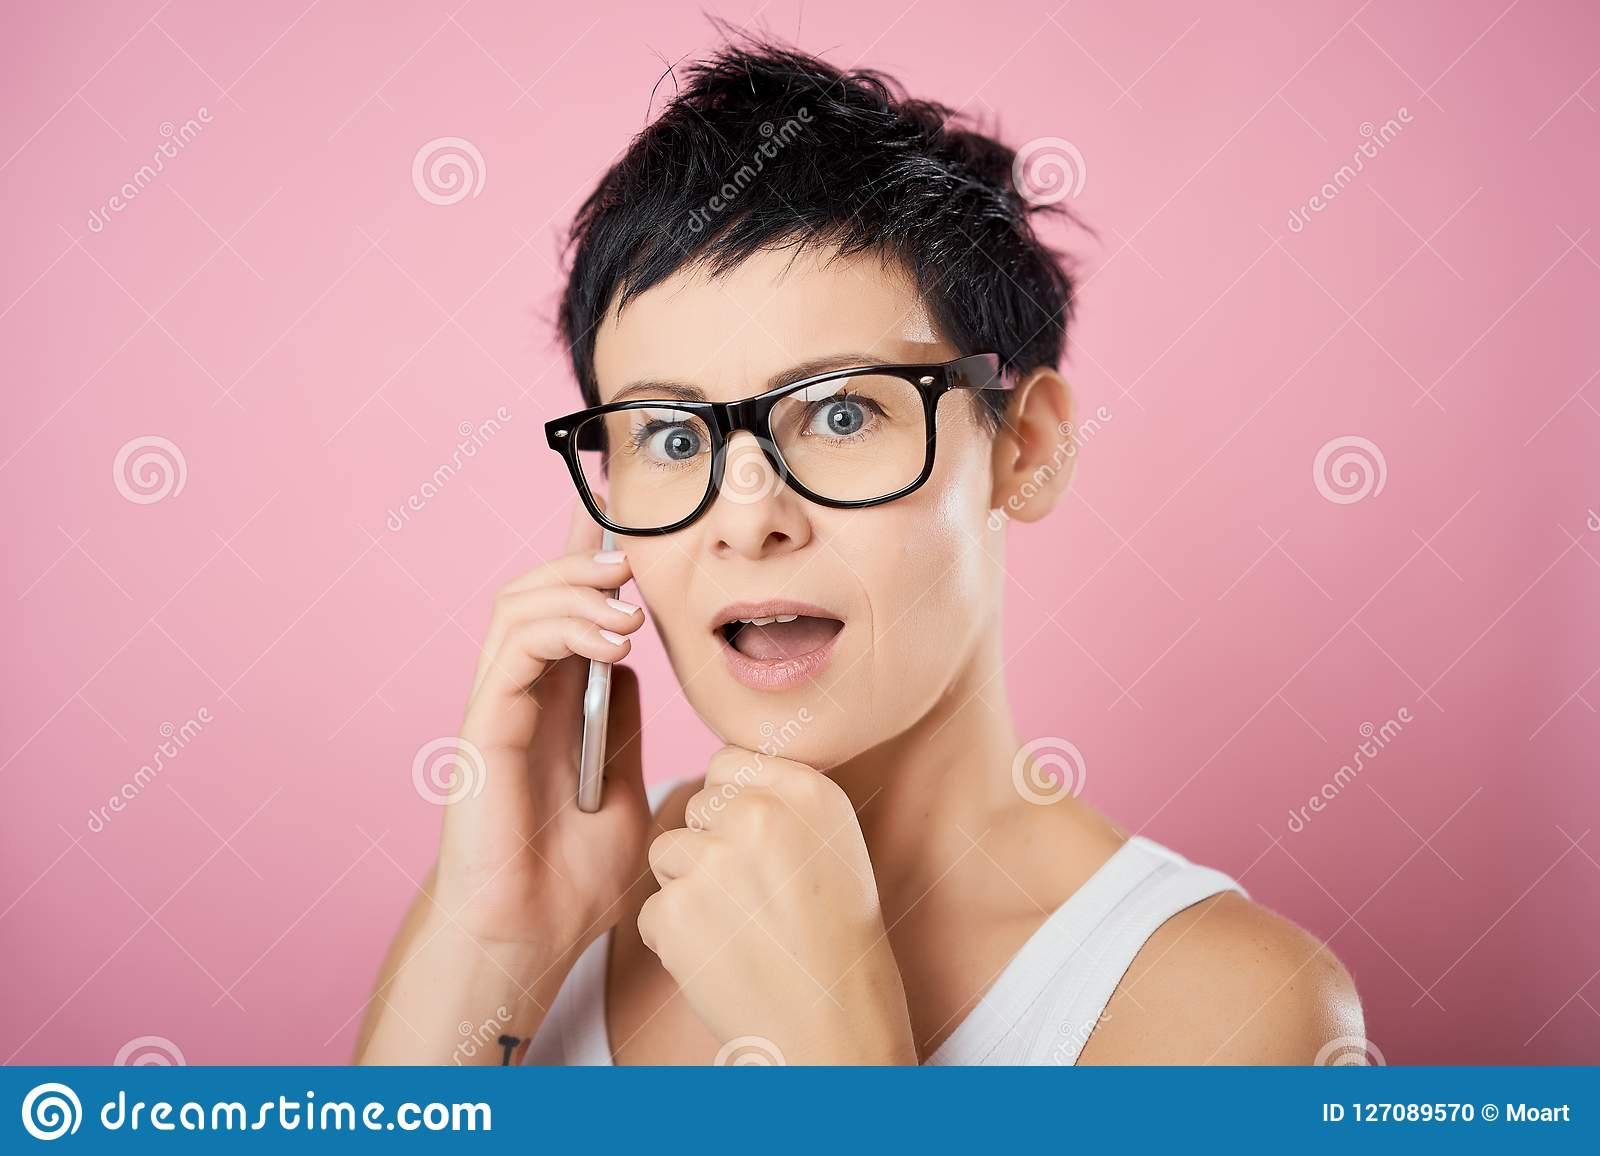phone: (576, 463, 625, 815)
talk: (420, 332, 952, 986)
